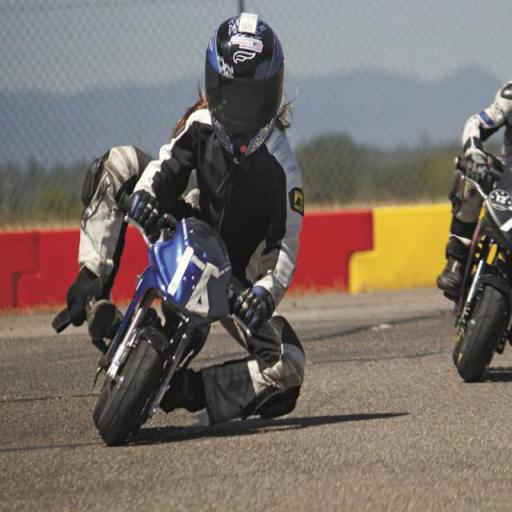Helmet: (205, 13, 283, 155)
Motor: (93, 216, 251, 444), (453, 156, 511, 381)
